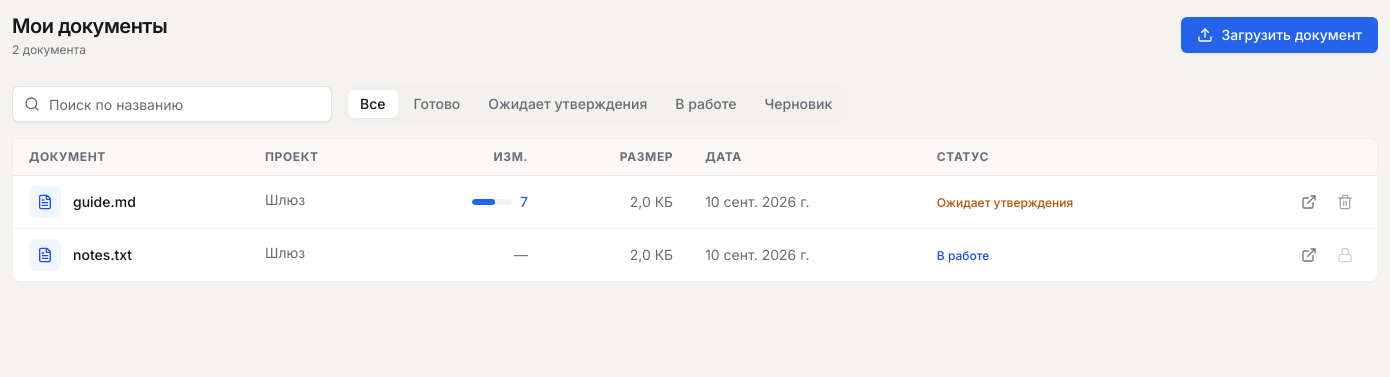
Test case: Раздел «Мои документы» › поиск с задержкой отправляет search и показывает «ничего не найдено»
Check: the link "guide.md" is shown, box [73,192,136,212]
Type "zzz" into the search field named "Поиск документов". click: (172, 104)
box: [12,86,332,122]
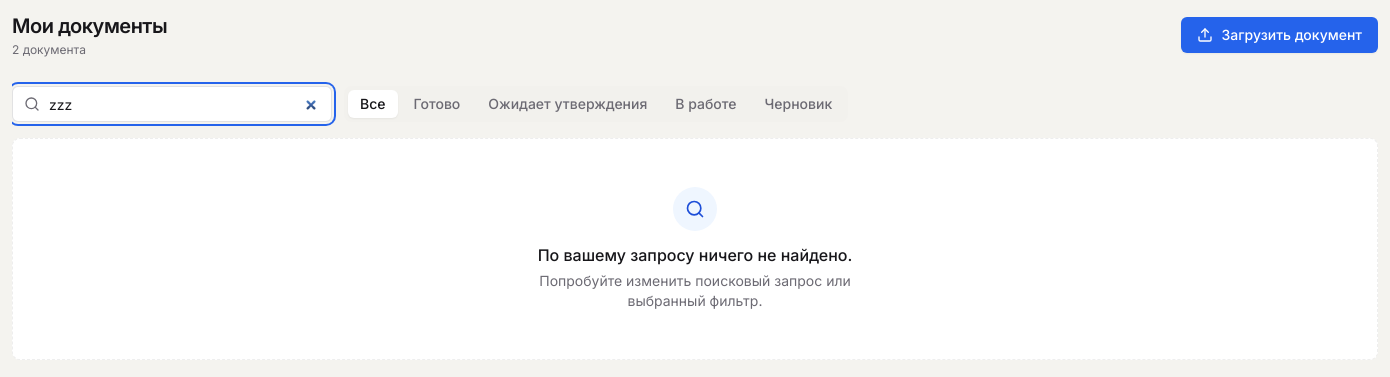
Check: the text "По вашему запросу ничего не найдено." is shown, box [538,243,852,267]
